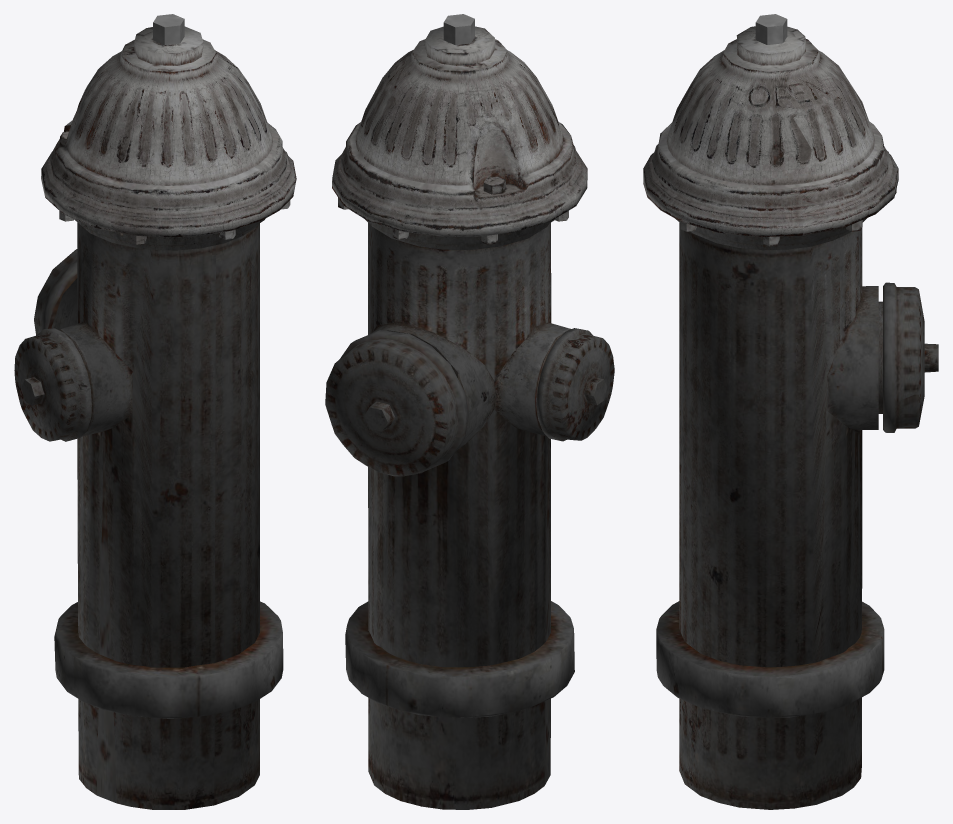
Rendered from hydrant.glb.
3 views of the same model, side by side, from view 1: azimuth 30°, elevation 25°; view 2: azimuth 150°, elevation 25°; view 3: azimuth 270°, elevation 25° (orthographic).
Parts seen in each view (by area): view 1: hydrant; view 2: hydrant; view 3: hydrant.
Boxes of the visible parts, left/top/right/bottom form: hydrant: left=14, top=14, right=296, bottom=809; hydrant: left=325, top=14, right=614, bottom=809; hydrant: left=643, top=14, right=938, bottom=809.
Bounding box in the file's own units: 0.2671 × 0.7614 × 0.2717.
Materials: 1 (1 with a texture image).
